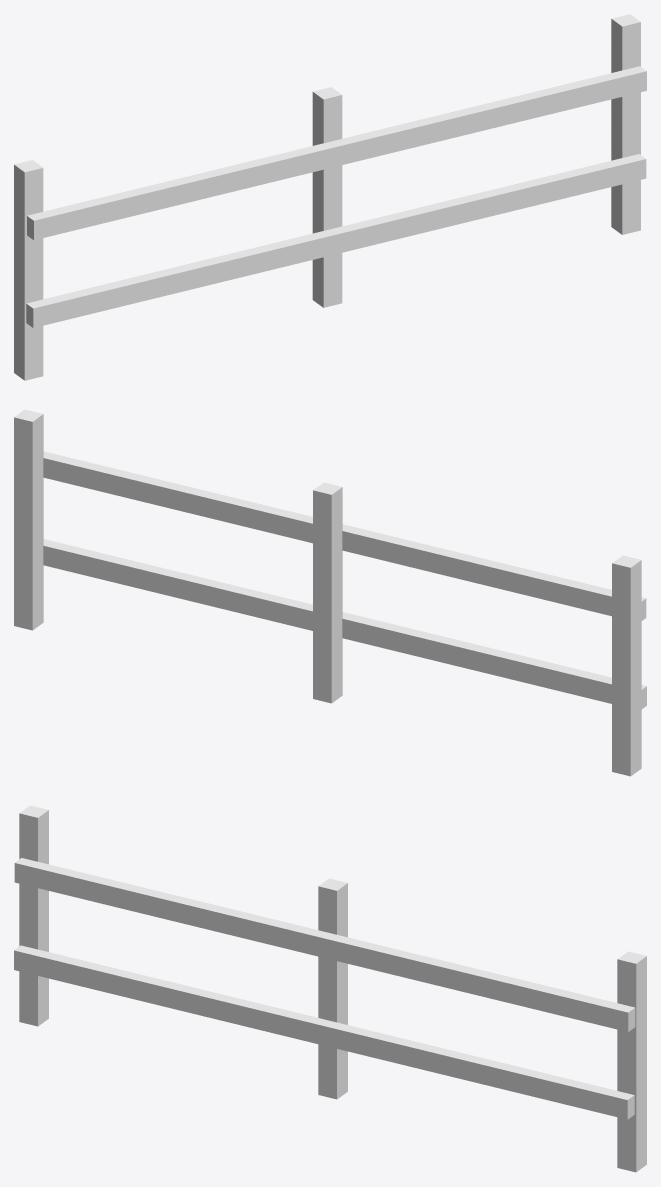
The model's file is Fence_01.fbx.
3 views of the same model, one above another, from view 1: azimuth 30°, elevation 25°; view 2: azimuth 150°, elevation 25°; view 3: azimuth 330°, elevation 25° (orthographic).
Parts seen in each view (by area): view 1: Fence_01; view 2: Fence_01; view 3: Fence_01.
Boxes of the visible parts, x1,y1,x2,y2 form: Fence_01: (14,14,646,380); Fence_01: (14,409,646,776); Fence_01: (14,805,646,1172).
Bounding box in the file's own units: 6.19 × 2 × 0.3079.
